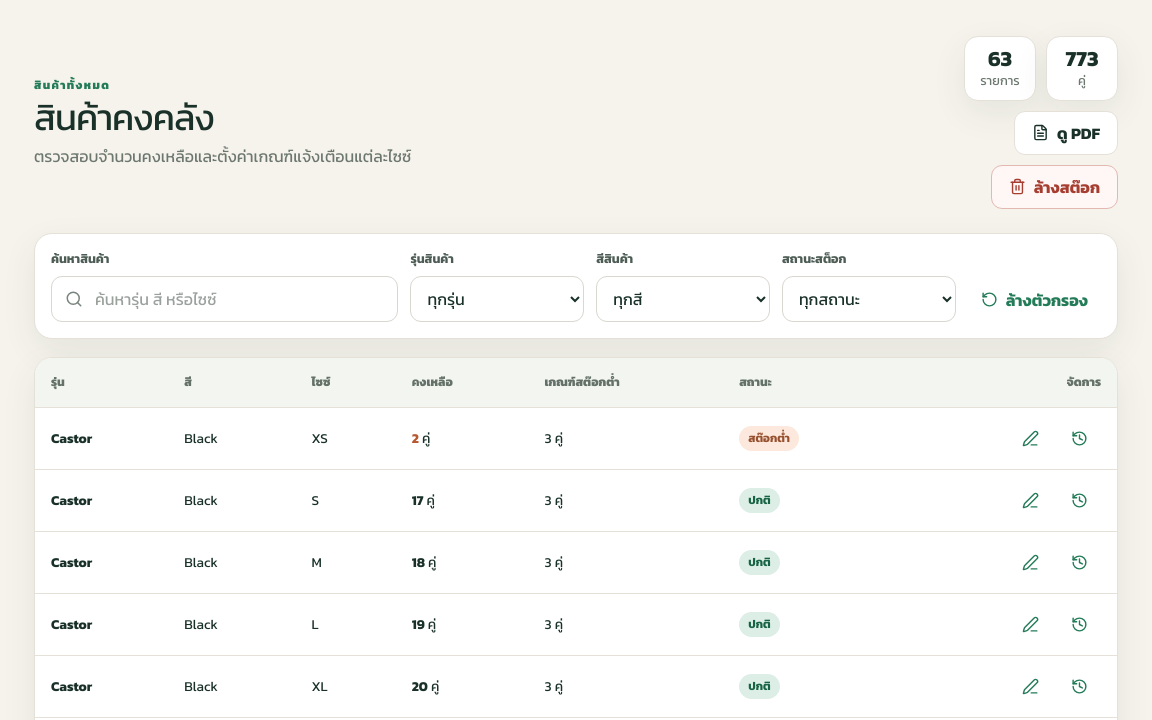
Scenario: InventoryPage › keeps clear stock enabled when filters hide globally available stock
Expected: the button "ล้างสต๊อก" is enabled, x1=991 y1=165 x2=1118 y2=209
In the search field labelled "ค้นหาสินค้า": (240, 299) x1=83 y1=277 x2=398 y2=321, type "ไม่มีสินค้านี้"
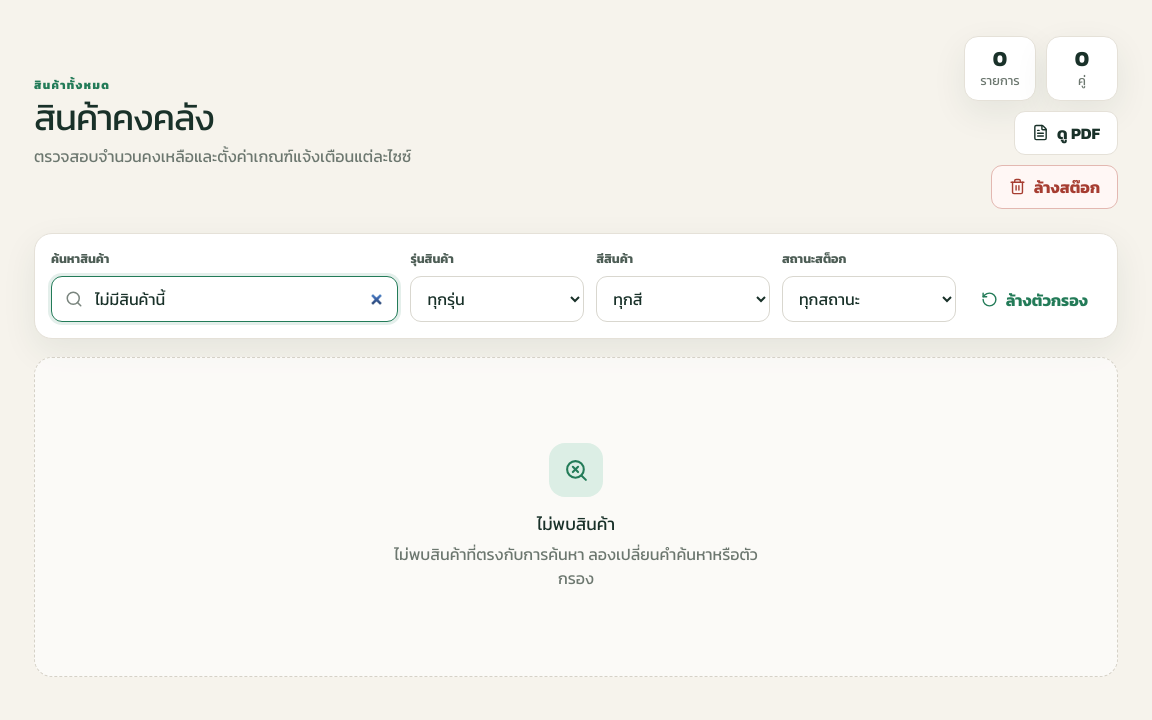
Expected: the button "ล้างสต๊อก" is enabled, x1=991 y1=165 x2=1118 y2=209
Expected: the text "0" is shown 2 times, x1=993 y1=47 x2=1007 y2=71; x1=1075 y1=47 x2=1089 y2=71
